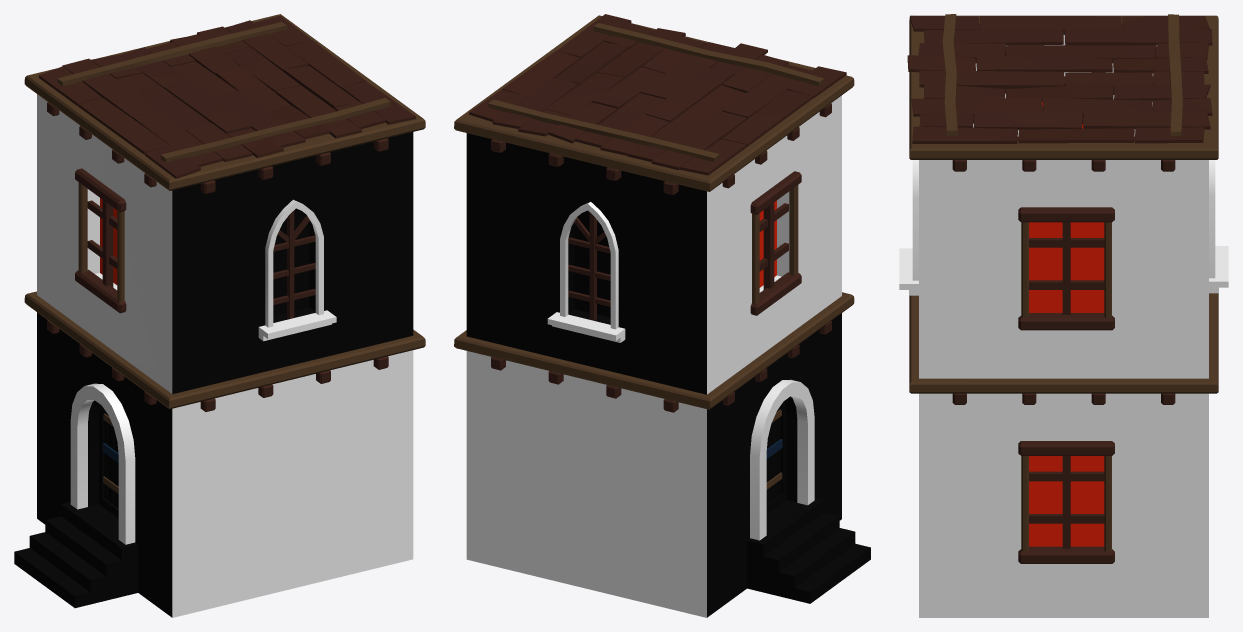
Rendered from civilian_house_35_c.FBX.
The picture shows the model from 3 angles, left to right: view 1: azimuth 30°, elevation 25°; view 2: azimuth 150°, elevation 25°; view 3: azimuth 270°, elevation 25°; orthographic projection. The views are drawn at different scales.
Visible parts, largest first — view 1: civilian_house_35_c; view 2: civilian_house_35_c; view 3: civilian_house_35_c.
Boxes of the visible parts, bbox=[...] form: civilian_house_35_c: bbox=[14, 14, 425, 617]; civilian_house_35_c: bbox=[454, 14, 870, 617]; civilian_house_35_c: bbox=[899, 14, 1228, 617].
Bounding box in the file's own units: 599 × 827 × 511.
